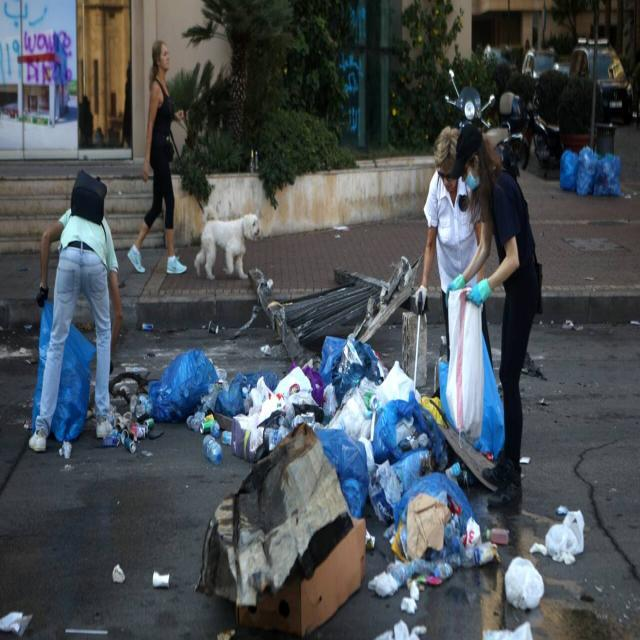garbage: (136, 258, 542, 640)
